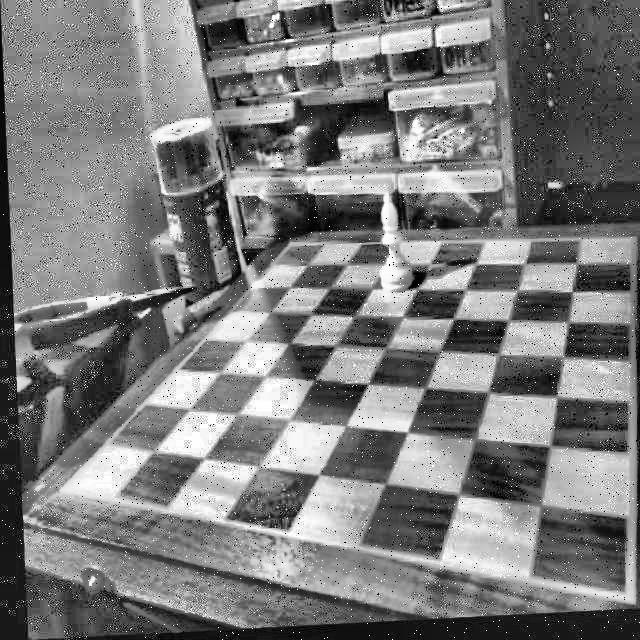white-bishop: (370, 194, 410, 298)
